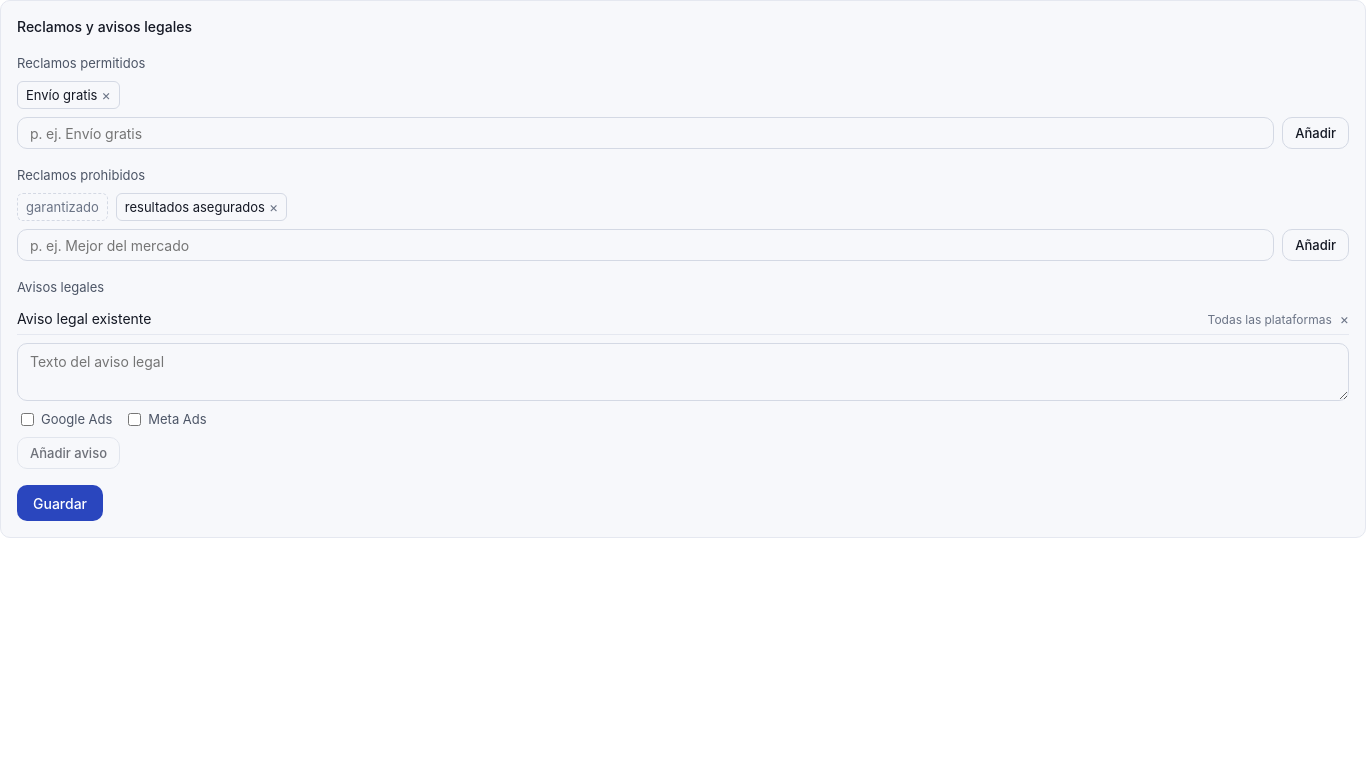
Test case: BrandClaimsEditor › un reclamo permitido que coincide con uno prohibido bloquea el guardado con un aviso
The image size is (1366, 768).
Type "resultados asegurados" into the field labelled "Reclamos permitidos".
click(646, 133); type("resultados asegurados")  # box [17,117,1274,149]
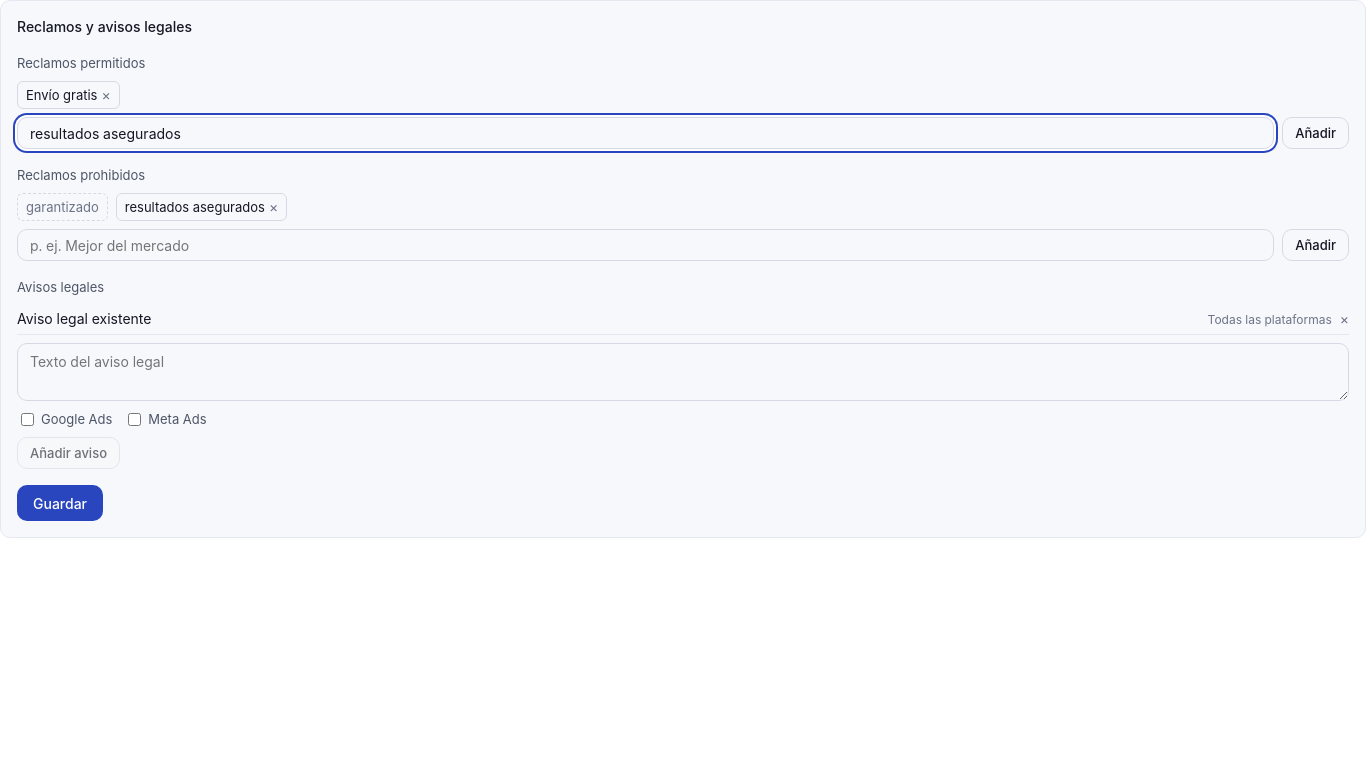
Click the 1st button "Añadir".
click(1316, 133)  # box [1282,117,1349,149]
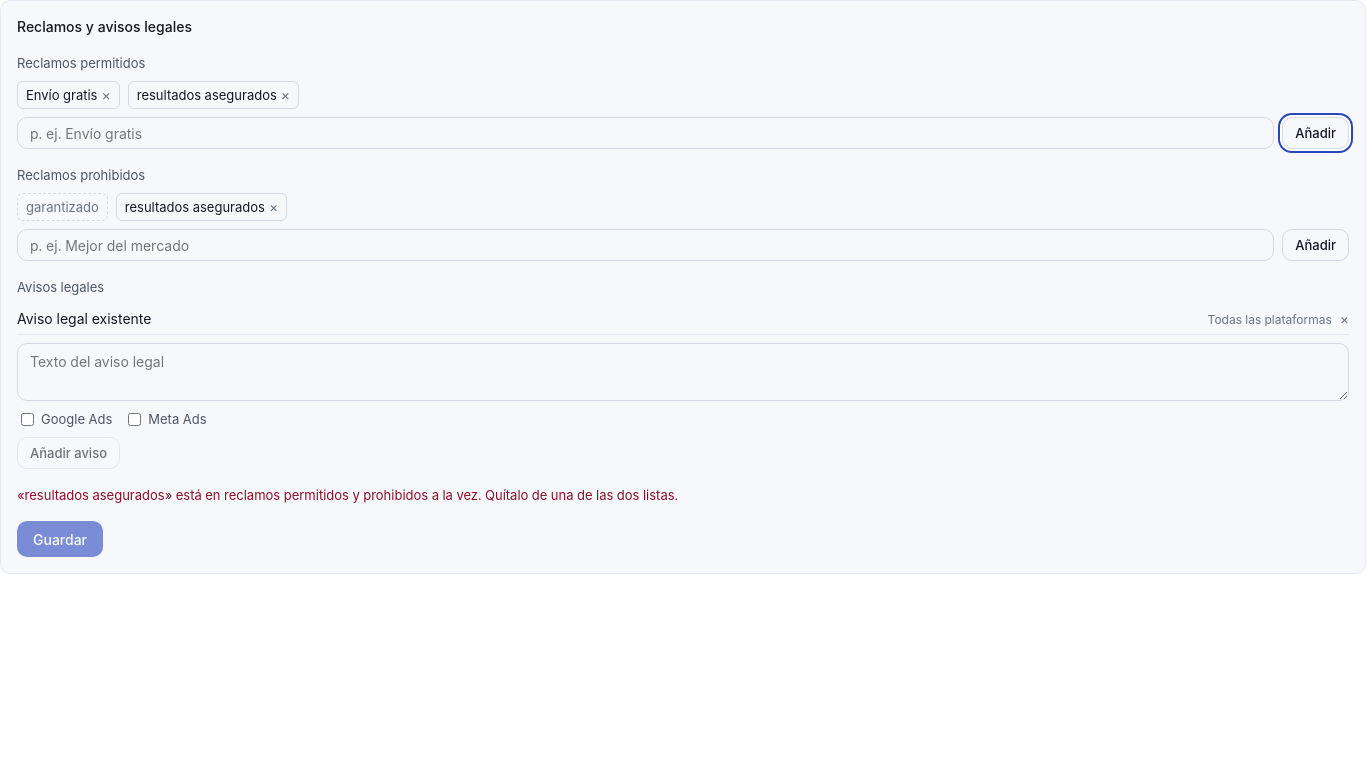
Expected: the message shows "está en reclamos permitidos y prohibidos a la vez", [165,487,678,503]
Expected: the button "Guardar" is disabled, [17,521,103,557]
